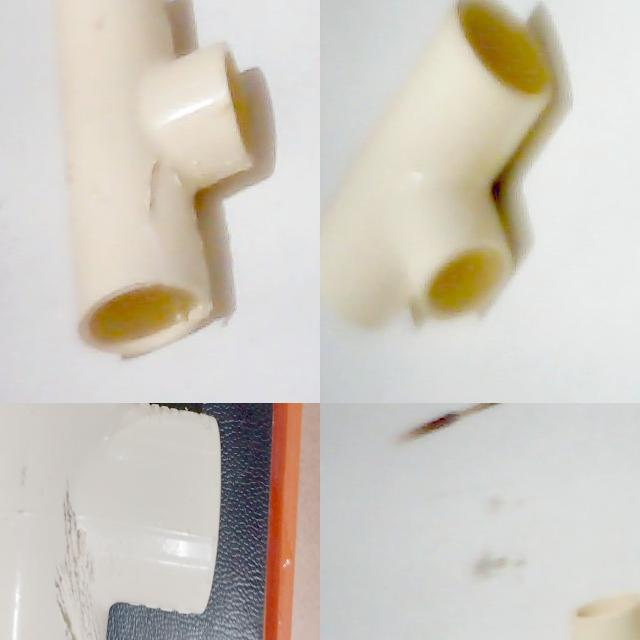Defective: (155, 526, 284, 606), (137, 514, 275, 561), (135, 148, 187, 255), (0, 595, 64, 640)
T Joint: (320, 0, 554, 330), (54, 0, 253, 359), (0, 403, 278, 640)
